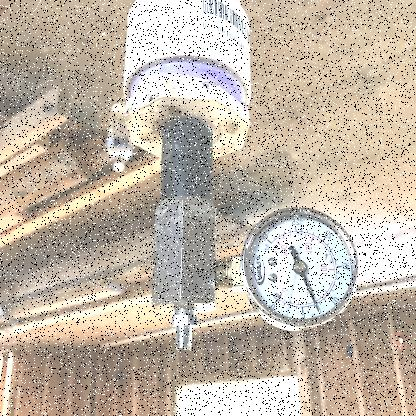needle: (300, 272, 320, 314)
